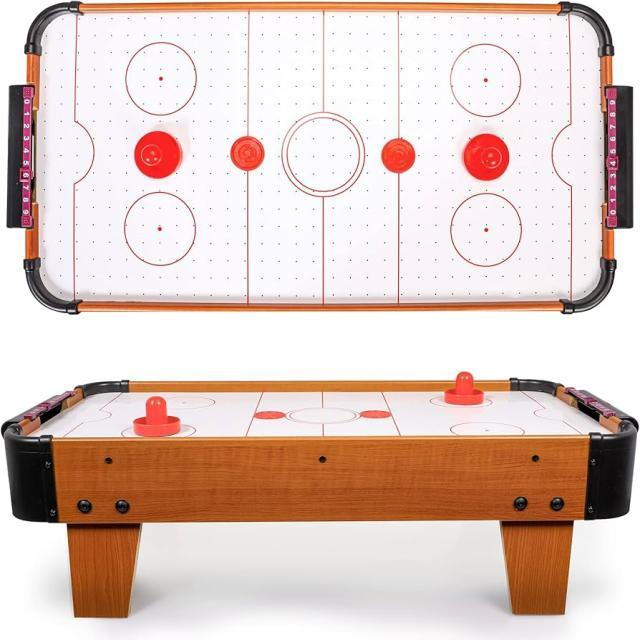chip: (381, 137, 415, 173), (231, 135, 264, 172)
